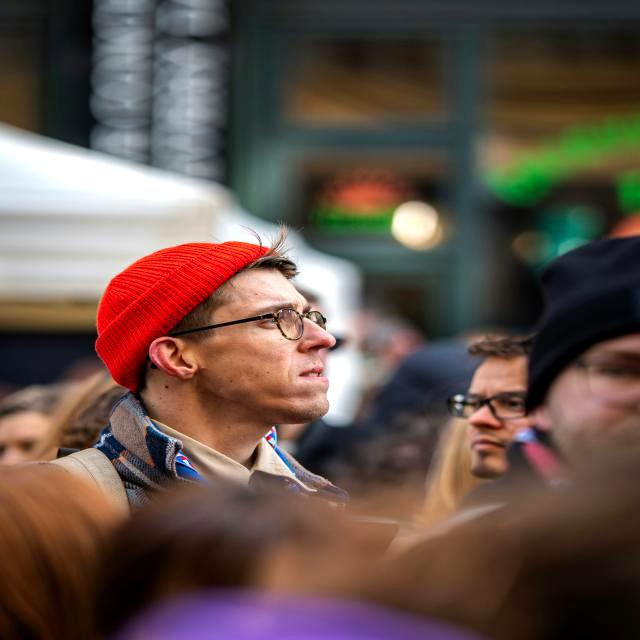no_hard_hat: (96, 241, 277, 392), (529, 236, 640, 385)
no_head_wear: (467, 334, 534, 364)
person: (394, 236, 640, 640), (20, 239, 350, 524), (449, 336, 532, 482)
